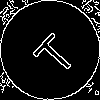T: (25, 25, 80, 79)
